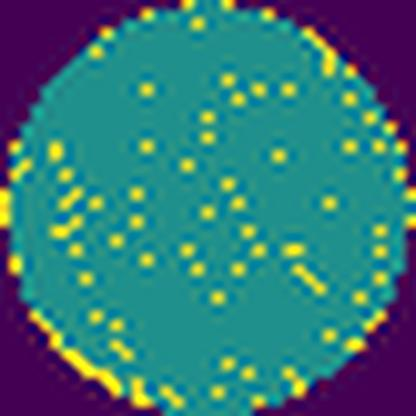Edge-Loc: (32, 305, 128, 401)
